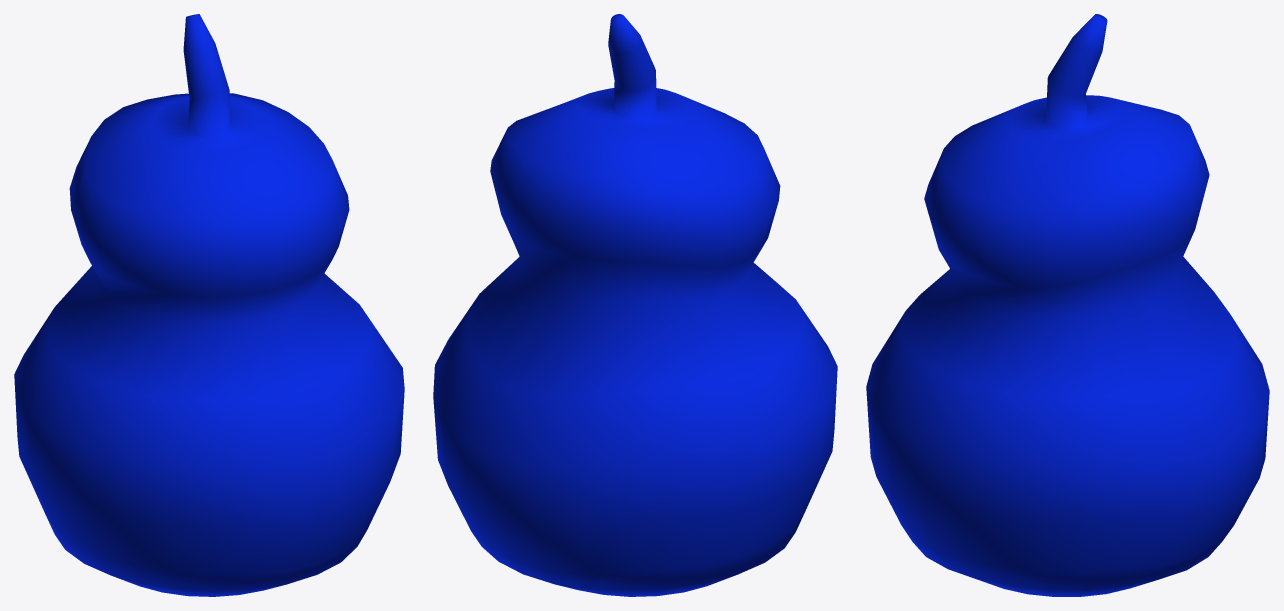
The model's file is S_Pear.fbx.
3 renders of one model, left to right at view 1: azimuth 30°, elevation 25°; view 2: azimuth 150°, elevation 25°; view 3: azimuth 270°, elevation 25°, orthographic. The views are drawn at different scales.
Visible parts, largest first — view 1: Cylinder.001_low; view 2: Cylinder.001_low; view 3: Cylinder.001_low.
Boxes of the visible parts, box(x1,y1,x2,y2) form: Cylinder.001_low: box(14, 14, 404, 596); Cylinder.001_low: box(433, 14, 837, 596); Cylinder.001_low: box(866, 14, 1269, 596).
Bounding box in the file's own units: 0.1341 × 0.2 × 0.1367.
